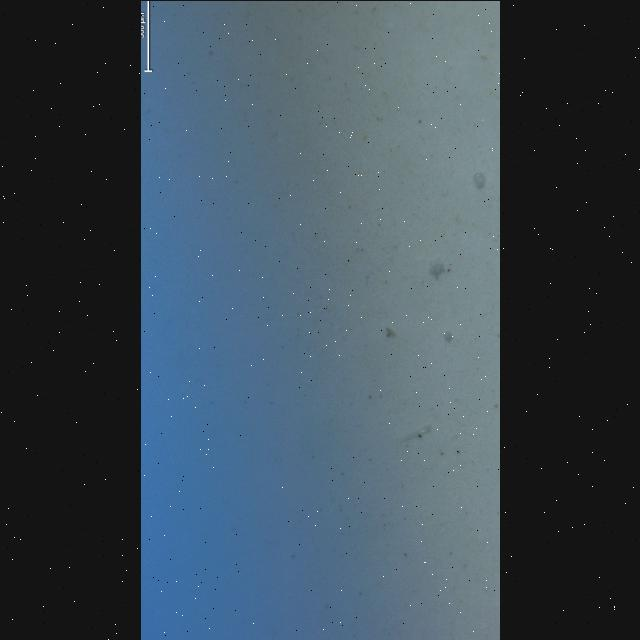Fibre: (397, 424, 430, 441)
Fragment: (428, 260, 445, 280), (473, 170, 485, 188)
